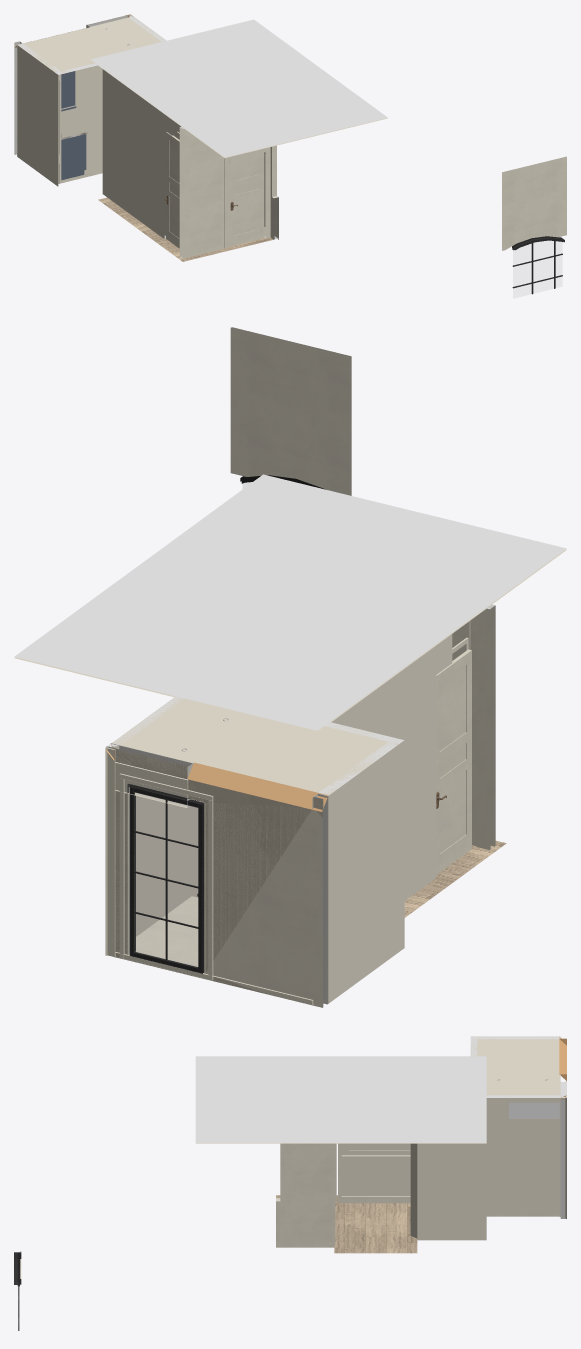
File: laundry-b80ece7b3ee6.glb
3 views of the same model, one above another, from view 1: azimuth 30°, elevation 25°; view 2: azimuth 150°, elevation 25°; view 3: azimuth 270°, elevation 25° (orthographic). The views are drawn at different scales.
Visible parts, largest first — view 1: laundry-look-9d91b47435c6fb33, laundry-look-64efeecf845bccca, laundry-look-eb02897c2e79e2b1, laundry-look-34525a54e63b733b, laundry-4fe5579be934d30a, laundry-9d91b47435c6fb33, laundry-8d8280a2b3ef8b4c, laundry-look-dcc0092055abeaa8, laundry-look-8d5f500af8e4c699, laundry-look-b50904fb6ee0544e, laundry-look-2575515a05775d9e, laundry-3d7dc14daaac73cc (+3 smaller); view 2: laundry-look-9d91b47435c6fb33, laundry-bd62734a7bc60eb7, laundry-look-34525a54e63b733b, laundry-4fe5579be934d30a, laundry-ca9c0b57f88e5741, laundry-9d91b47435c6fb33, laundry-09f90213aa0a4493, laundry-look-64efeecf845bccca, laundry-7f59123d155b94ce, laundry-look-b50904fb6ee0544e, laundry-look-eb02897c2e79e2b1, laundry-9373e00609a5f856 (+5 smaller); view 3: laundry-look-9d91b47435c6fb33, laundry-7f59123d155b94ce, laundry-look-7f59123d155b94ce, laundry-look-746250f96522f643, laundry-9d91b47435c6fb33, laundry-look-2575515a05775d9e, laundry-look-64efeecf845bccca, laundry-6cbc44f63f815149, laundry-9a6873bb27e0e1d8, laundry-look-1a48be0d0ff2f96f.
Part boxes in pixels (left/top/right/bottom): laundry-look-9d91b47435c6fb33: left=91, top=19, right=387, bottom=158; laundry-look-64efeecf845bccca: left=102, top=69, right=177, bottom=238; laundry-look-eb02897c2e79e2b1: left=179, top=126, right=270, bottom=258; laundry-look-34525a54e63b733b: left=502, top=156, right=566, bottom=250; laundry-4fe5579be934d30a: left=17, top=43, right=60, bottom=184; laundry-9d91b47435c6fb33: left=19, top=16, right=164, bottom=74; laundry-8d8280a2b3ef8b4c: left=55, top=63, right=102, bottom=186; laundry-look-dcc0092055abeaa8: left=229, top=148, right=264, bottom=246; laundry-look-8d5f500af8e4c699: left=512, top=236, right=564, bottom=298; laundry-look-b50904fb6ee0544e: left=166, top=132, right=179, bottom=248; laundry-look-2575515a05775d9e: left=98, top=197, right=278, bottom=261; laundry-3d7dc14daaac73cc: left=61, top=134, right=86, bottom=180; laundry-look-9d91b47435c6fb33: left=14, top=474, right=566, bottom=730; laundry-bd62734a7bc60eb7: left=106, top=747, right=322, bottom=1007; laundry-look-34525a54e63b733b: left=230, top=327, right=351, bottom=495; laundry-4fe5579be934d30a: left=317, top=742, right=398, bottom=1003; laundry-ca9c0b57f88e5741: left=107, top=747, right=323, bottom=1007; laundry-9d91b47435c6fb33: left=111, top=696, right=404, bottom=795; laundry-09f90213aa0a4493: left=127, top=784, right=204, bottom=973; laundry-look-64efeecf845bccca: left=332, top=634, right=452, bottom=900; laundry-7f59123d155b94ce: left=105, top=696, right=197, bottom=955; laundry-look-b50904fb6ee0544e: left=436, top=649, right=471, bottom=874; laundry-look-eb02897c2e79e2b1: left=452, top=604, right=495, bottom=849; laundry-9373e00609a5f856: left=119, top=773, right=213, bottom=980; laundry-look-9d91b47435c6fb33: left=195, top=1056, right=486, bottom=1143; laundry-7f59123d155b94ce: left=486, top=1095, right=566, bottom=1218; laundry-look-7f59123d155b94ce: left=410, top=1143, right=486, bottom=1240; laundry-look-746250f96522f643: left=276, top=1143, right=335, bottom=1245; laundry-9d91b47435c6fb33: left=470, top=1036, right=560, bottom=1095; laundry-look-2575515a05775d9e: left=276, top=1195, right=417, bottom=1253; laundry-look-64efeecf845bccca: left=340, top=1143, right=410, bottom=1202; laundry-6cbc44f63f815149: left=509, top=1082, right=566, bottom=1118; laundry-9a6873bb27e0e1d8: left=560, top=1098, right=565, bottom=1218; laundry-look-1a48be0d0ff2f96f: left=341, top=1196, right=410, bottom=1203.
Bounding box in the file's own units: 7.03 × 2.95 × 10.33.
32 materials, 4 textured.
